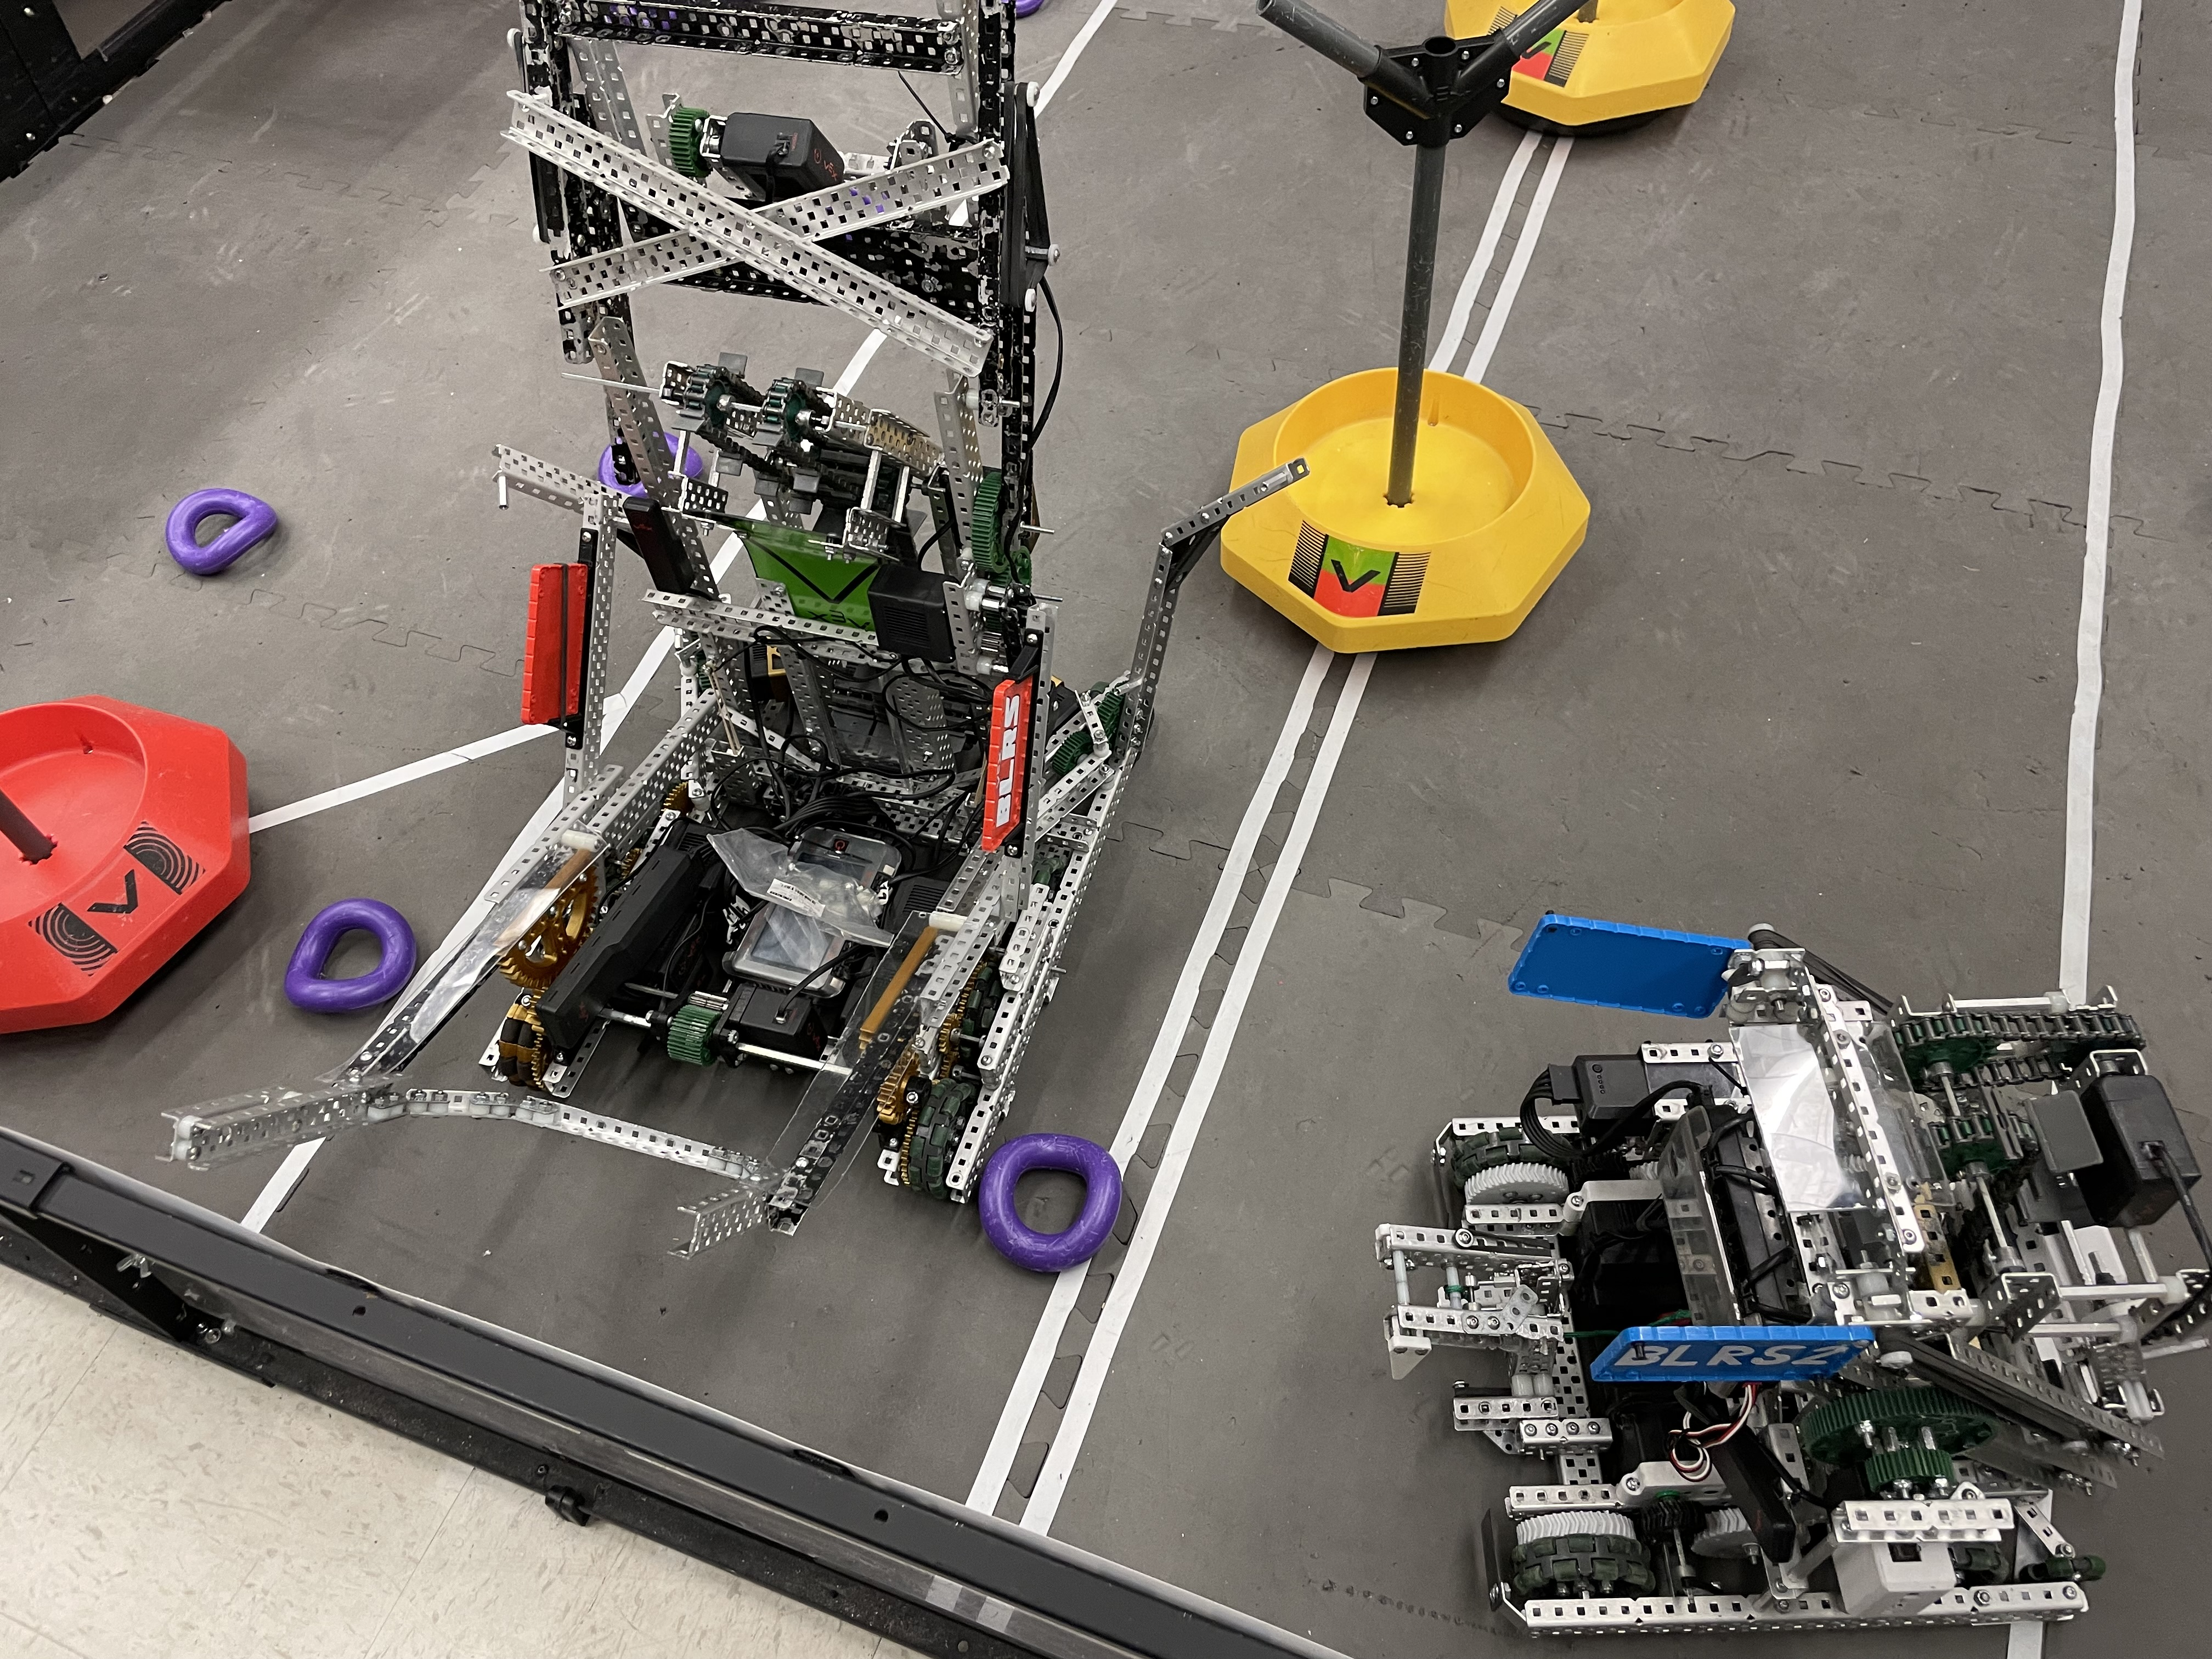ring: (963, 1131, 1134, 1272), (280, 894, 416, 1016), (158, 479, 282, 584), (587, 430, 707, 497), (1012, 0, 1043, 23)
